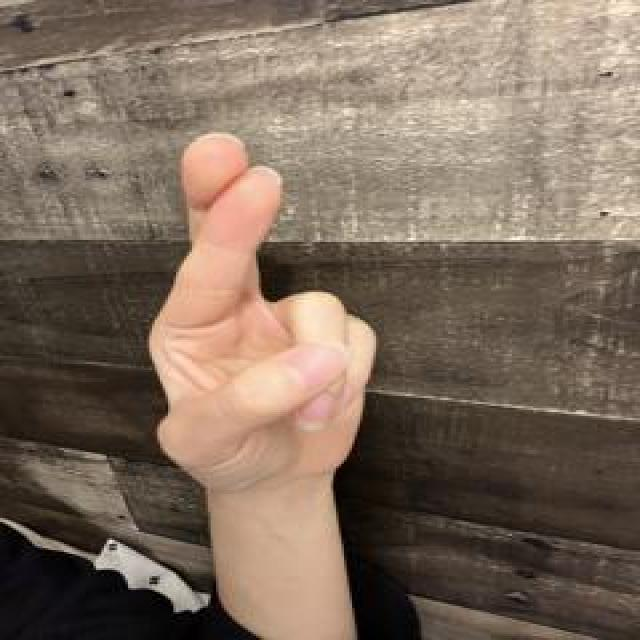R: (137, 127, 388, 505)
